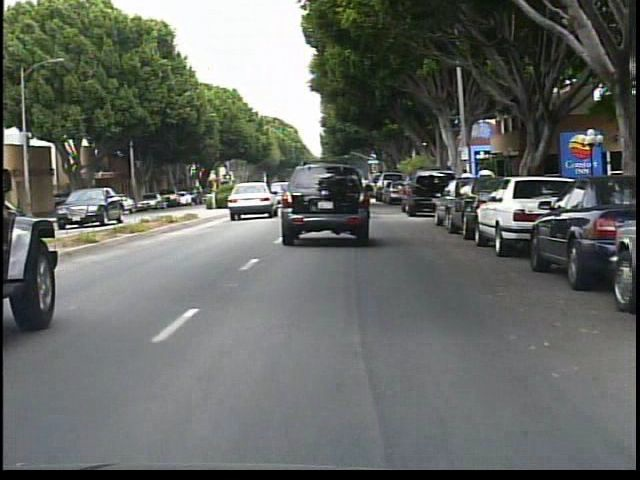person: (477, 163, 497, 208), (459, 166, 476, 206), (95, 189, 112, 218)
